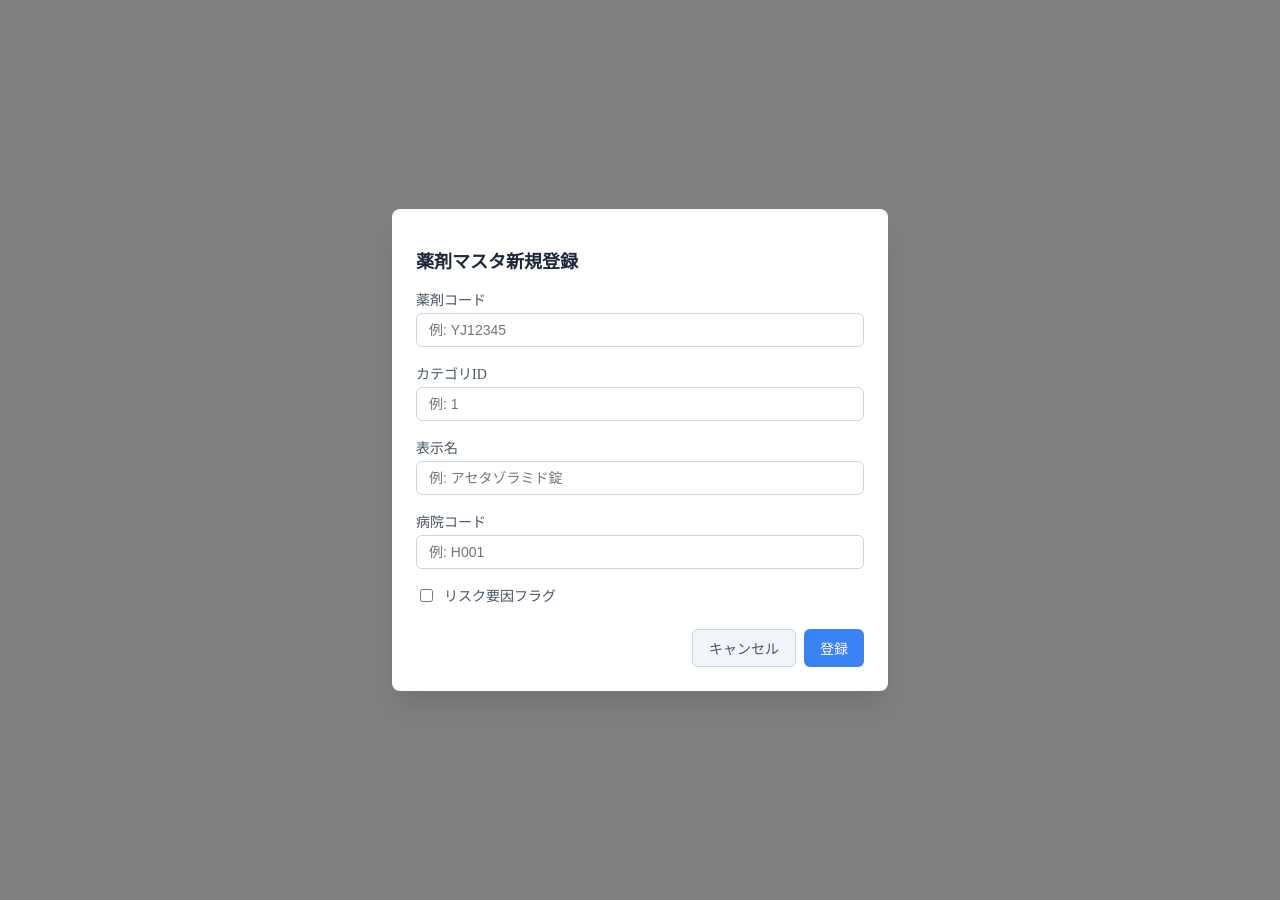
Test: MedicineMasterForm › バリデーション › 空のフォーム送信でバリデーションエラーを表示する
The width and height of the screenshot is (1280, 900).
Step 1. Click the button "登録" → click(834, 648), box [804, 630, 864, 668]
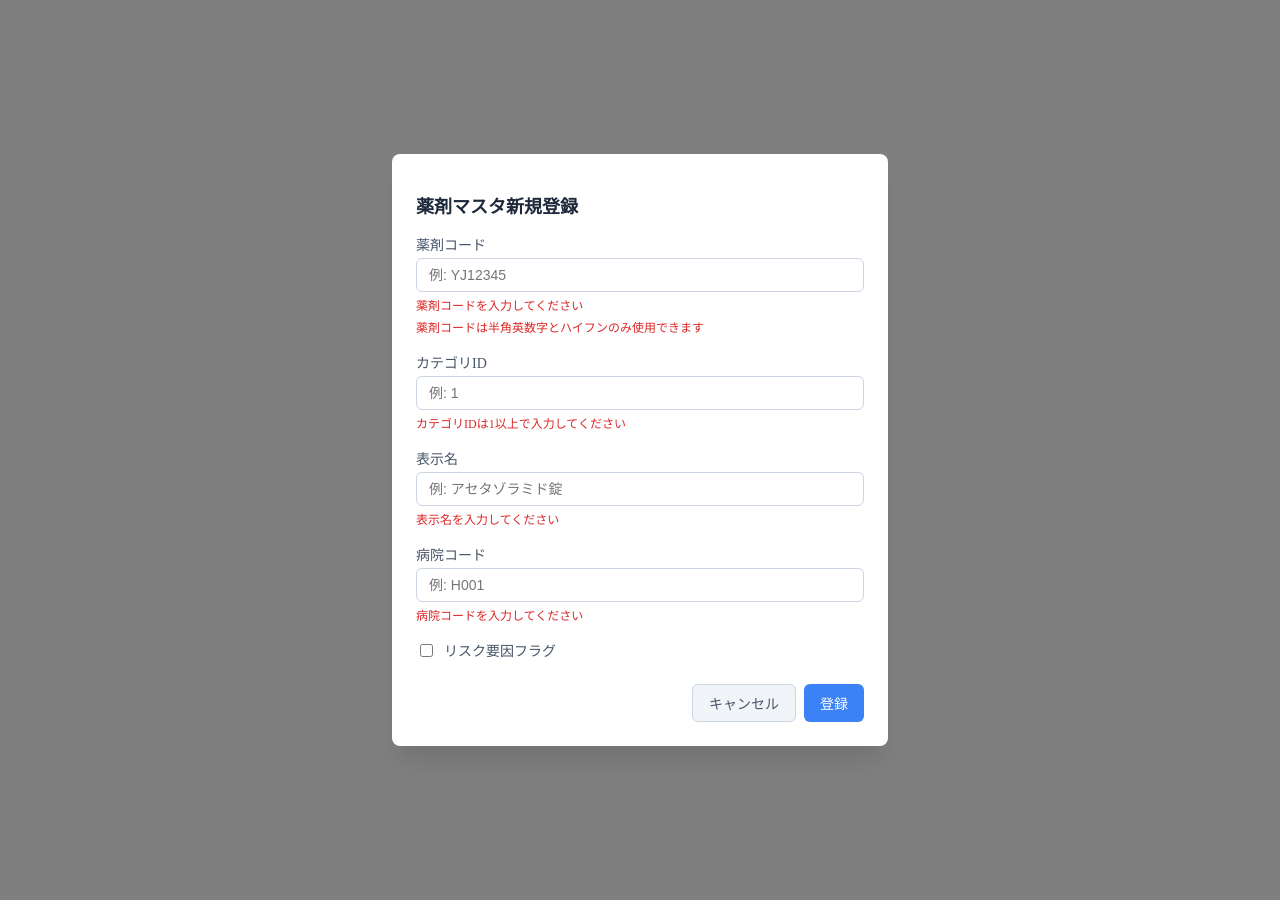
Expected: the text "薬剤コードを入力してください" is shown, [416, 300, 583, 314]
